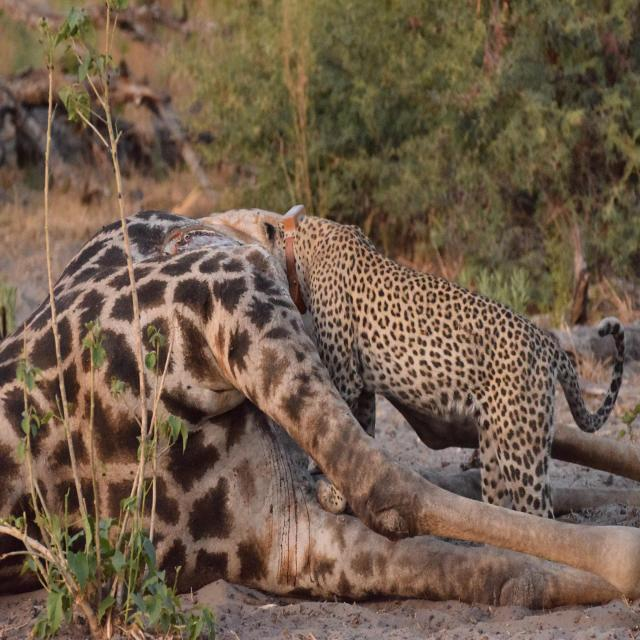Leopard: (243, 222, 636, 528)
